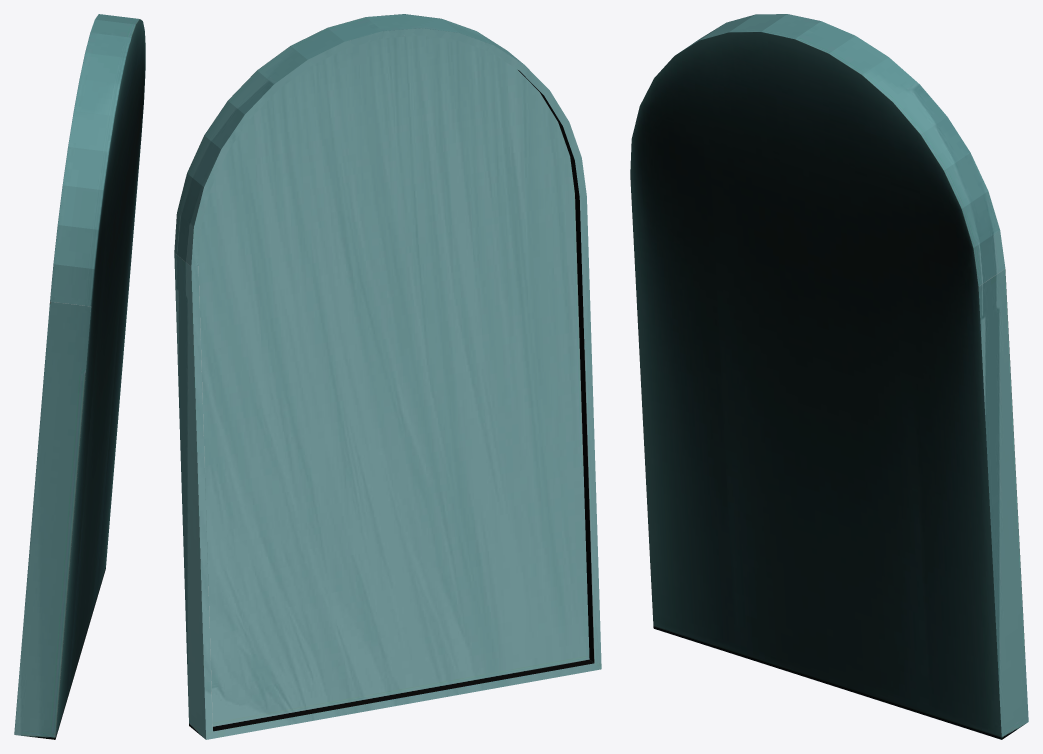
File: mirror.glb
3 renders of one model, left to right at view 1: azimuth 30°, elevation 25°; view 2: azimuth 150°, elevation 25°; view 3: azimuth 270°, elevation 25°, orthographic. The views are drawn at different scales.
Parts seen in each view (by area): view 1: Mirror; view 2: Mirror; view 3: Mirror.
Part boxes in pixels (left/top/right/bottom): Mirror: left=14, top=14, right=145, bottom=739; Mirror: left=174, top=14, right=601, bottom=739; Mirror: left=630, top=14, right=1028, bottom=739.
Size of the model in its own units: 1.3 by 2.9 by 1.57.
1 material, 1 textured.
